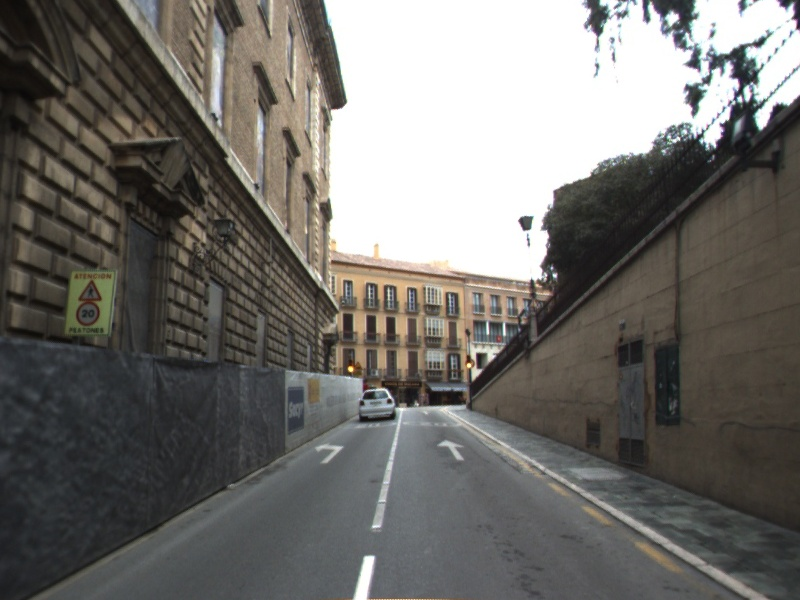LEFT: (312, 440, 346, 465)
STRAIGHT: (435, 437, 468, 462)
